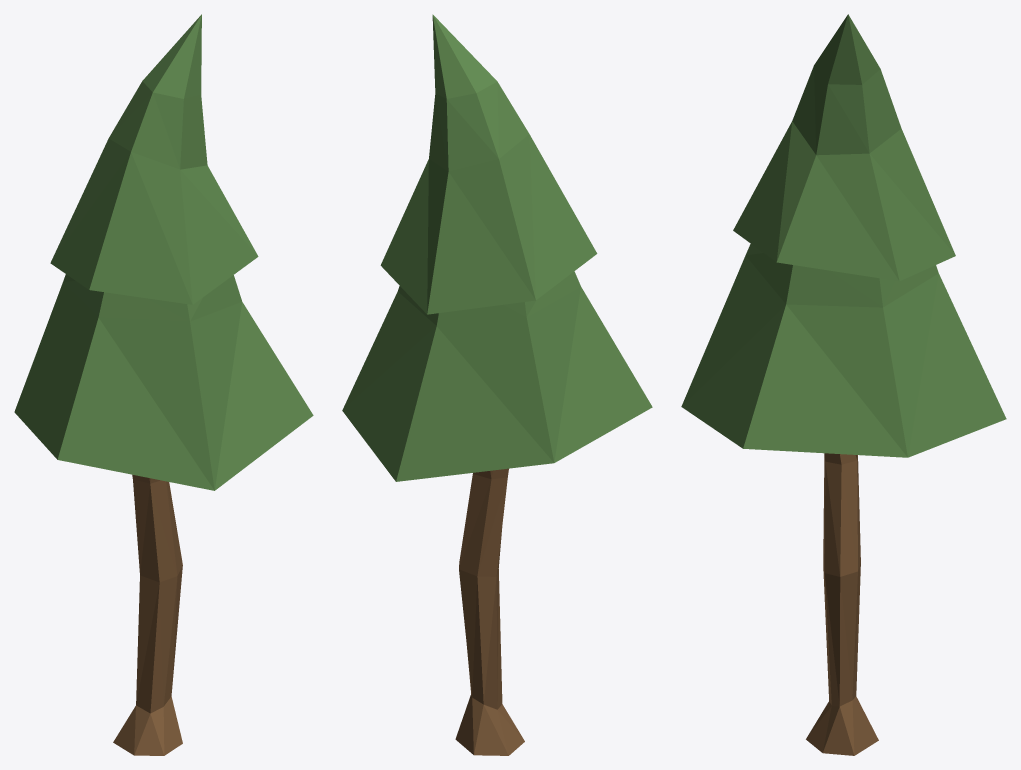
File: tree3d-028.glb
The picture shows the model from 3 angles, left to right: view 1: azimuth 30°, elevation 25°; view 2: azimuth 150°, elevation 25°; view 3: azimuth 270°, elevation 25°; orthographic projection. The views are drawn at different scales.
Parts seen in each view (by area): view 1: tree3d-028; view 2: tree3d-028; view 3: tree3d-028.
Boxes of the visible parts, x1,y1,x2,y2 form: tree3d-028: (14, 14, 313, 755); tree3d-028: (342, 14, 652, 755); tree3d-028: (681, 14, 1006, 755).
Size of the model in its own units: 0.3577 by 1 by 0.3904.
